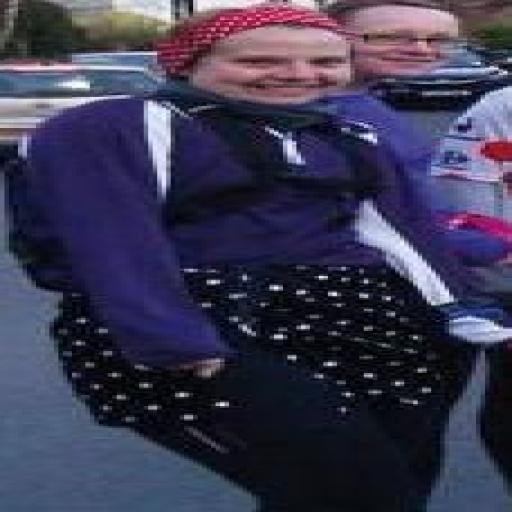person: (9, 4, 511, 511), (324, 0, 462, 210), (432, 86, 511, 221)
